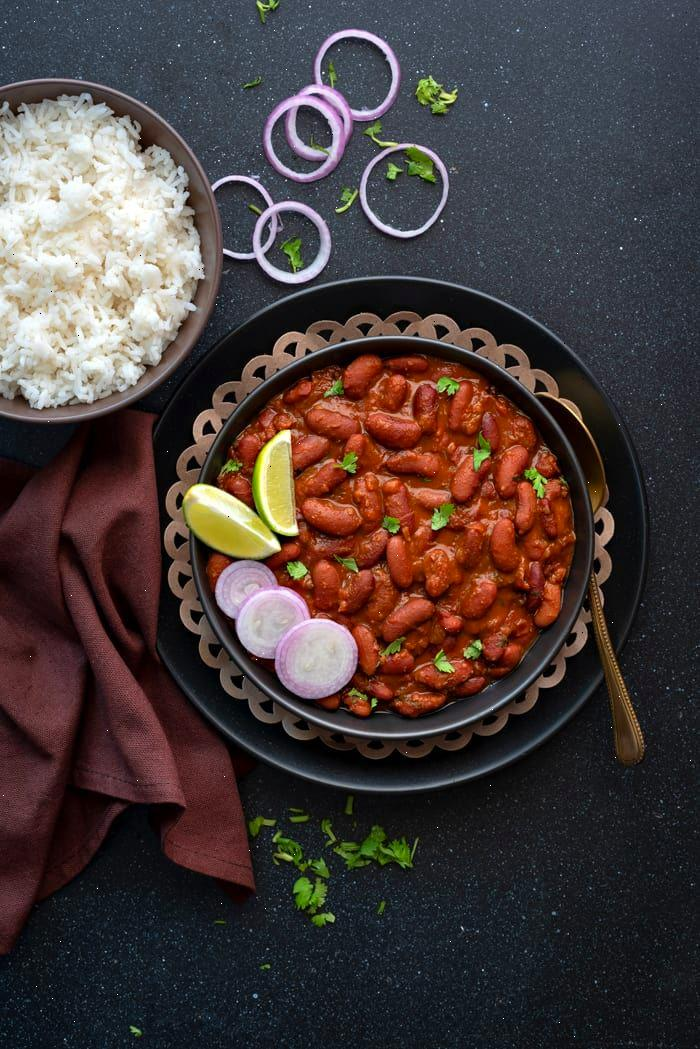rajma: (235, 370, 622, 675)
rice: (2, 97, 198, 405)
